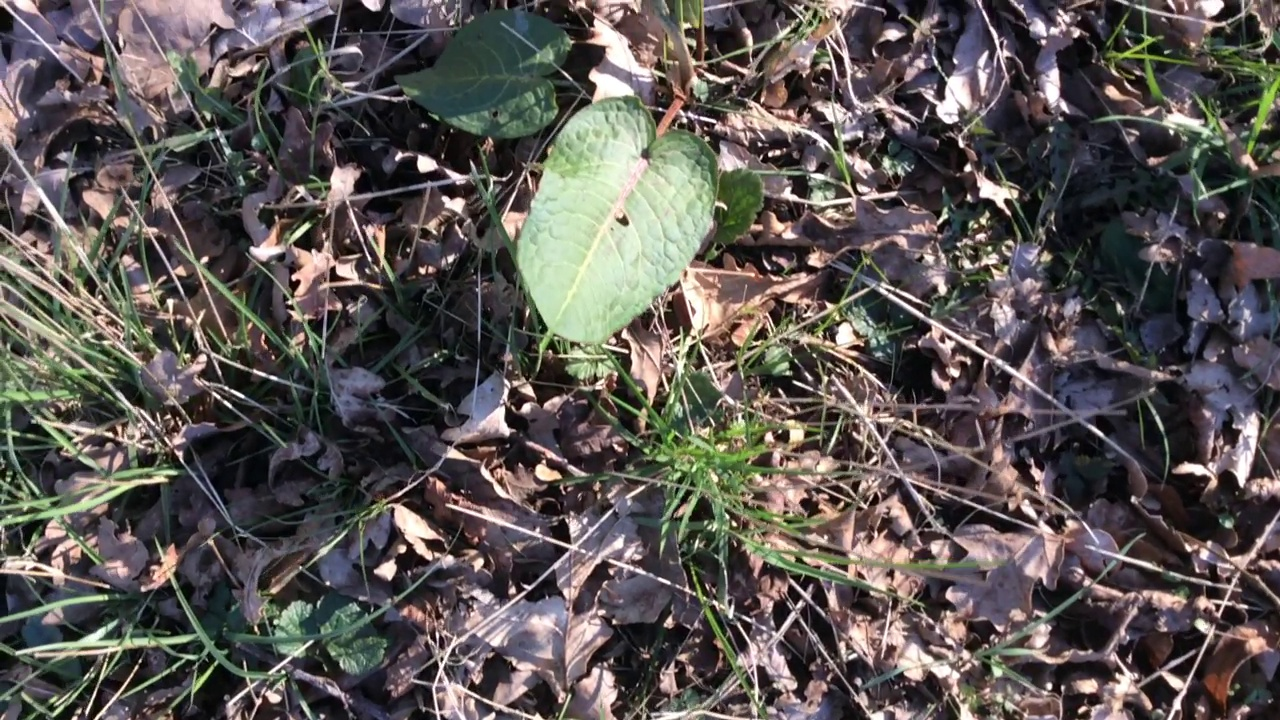rumex: (395, 7, 765, 345)
